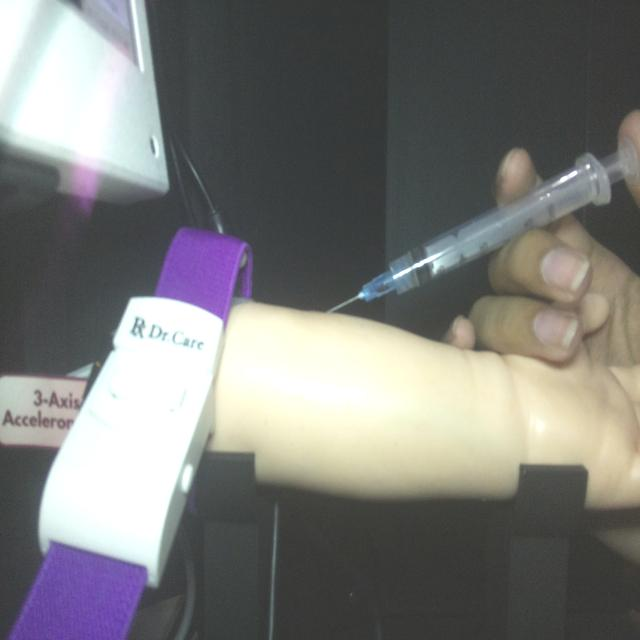19 degrees: (324, 135, 636, 316)
